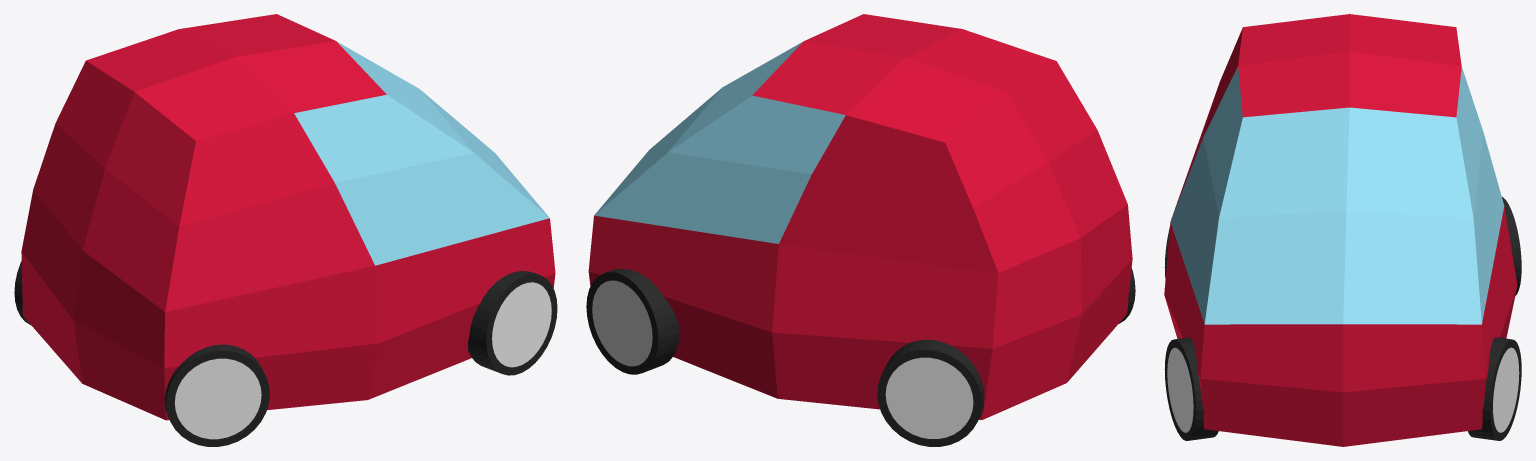
File: Voiture.fbx
The picture shows the model from 3 angles, left to right: view 1: azimuth 30°, elevation 25°; view 2: azimuth 150°, elevation 25°; view 3: azimuth 270°, elevation 25°; orthographic projection. The views are drawn at different scales.
Parts seen in each view (by area): view 1: Voiture; view 2: Voiture; view 3: Voiture.
Part boxes in pixels (left/top/right/bottom): Voiture: left=14, top=14, right=557, bottom=446; Voiture: left=586, top=14, right=1135, bottom=446; Voiture: left=1164, top=14, right=1521, bottom=446.
Size of the model in its own units: 349 by 245 by 258.
